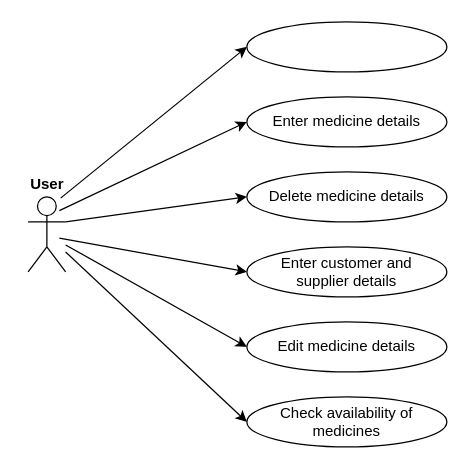
Image size: 469x469. Some labels were removed from this diagram. The centre of each missing label's shape, as x and y in pixels:
"Actor" goes at point (46, 234).
"Login to application" goes at point (346, 46).
